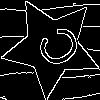C: (26, 21, 84, 76)
